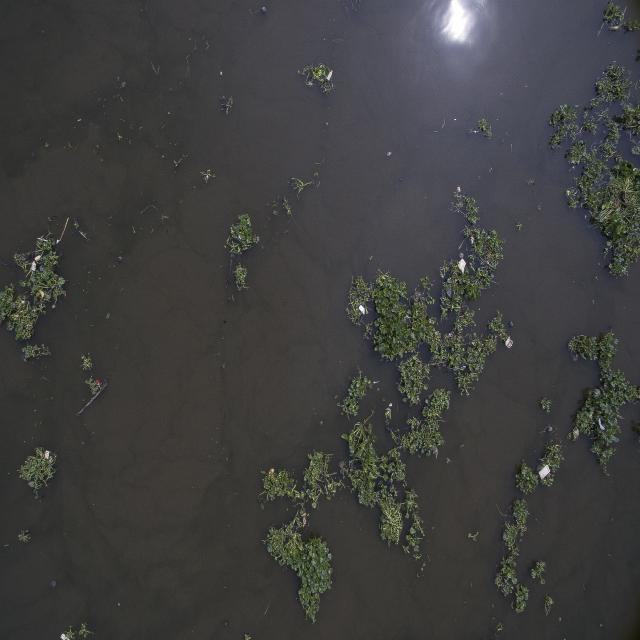debris: (538, 464, 550, 479), (596, 417, 607, 432), (217, 68, 227, 81), (457, 260, 466, 274), (60, 632, 73, 640), (571, 428, 580, 439), (506, 336, 514, 348), (358, 305, 366, 315), (44, 449, 50, 461), (38, 236, 48, 243), (35, 255, 44, 262), (39, 290, 46, 299), (32, 261, 38, 271), (386, 149, 392, 159), (95, 378, 101, 386), (388, 401, 394, 408), (56, 236, 60, 245)
plastic: (605, 24, 621, 34), (258, 5, 271, 17), (442, 288, 454, 300), (458, 363, 469, 371), (327, 66, 333, 80), (433, 447, 438, 461), (57, 281, 63, 291), (508, 319, 514, 329), (450, 201, 455, 212), (51, 578, 57, 586), (24, 530, 31, 536), (458, 252, 465, 258), (373, 380, 381, 384), (39, 135, 44, 141), (398, 176, 402, 182)
